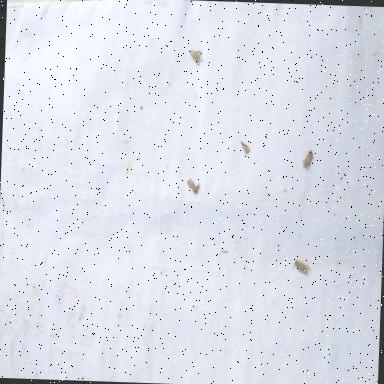pbw: (292, 260, 310, 276), (186, 178, 200, 194), (188, 49, 202, 64), (302, 148, 312, 168)
